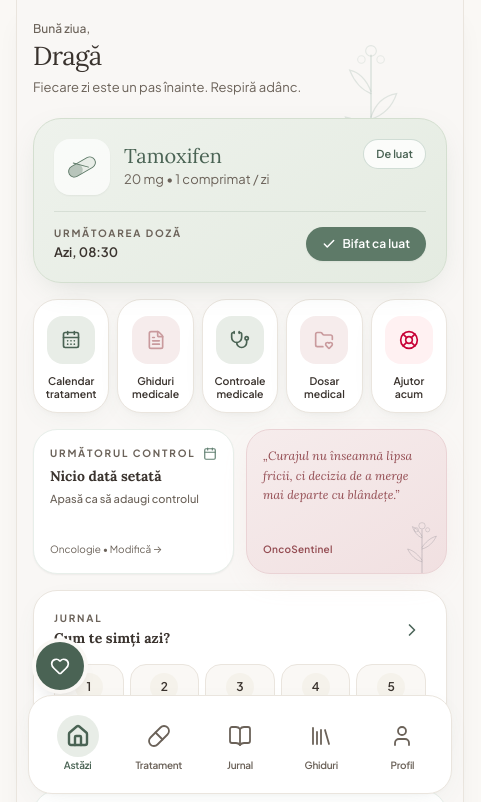
Test: Jurnal: somnul nenotat › la redeschidere, somnul salvat azi rămâne ales
Click the button "Jurnal". click: point(240, 744)
box: [199,706,281,783]
(page scrolled)
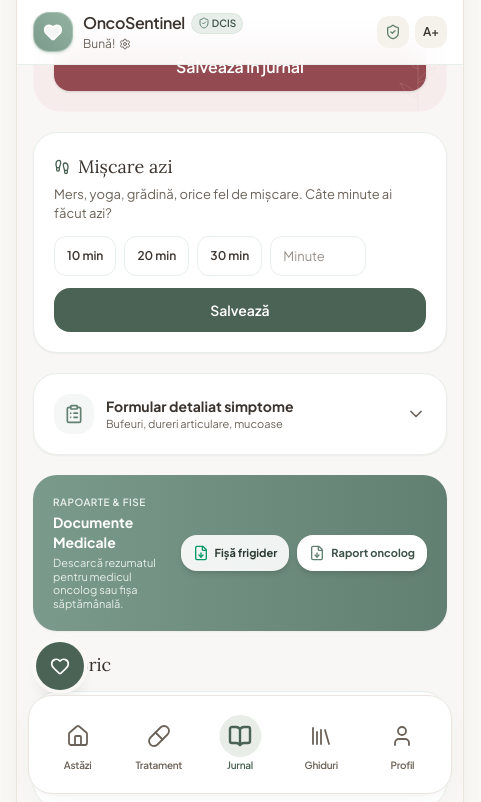
Click the text "Formular detaliat simptome". click: point(200, 406)
box: [106,396,294,416]
(page scrolled)
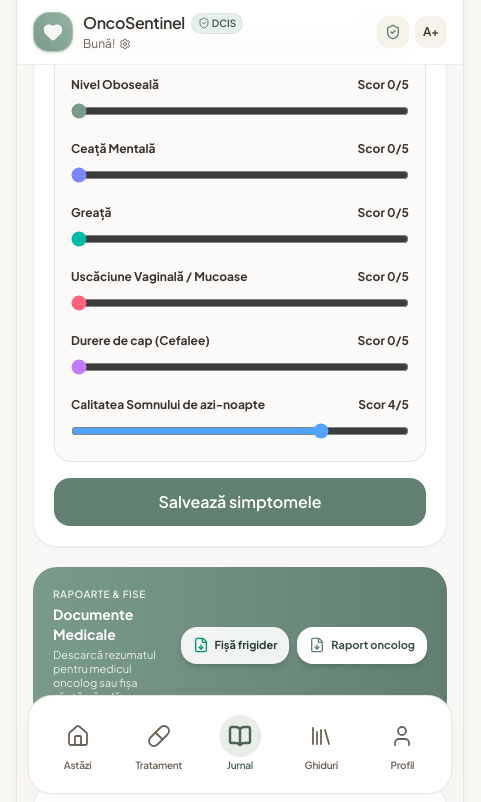
Expected: the text "Scor 4/5" is shown, [358,397,409,413]
